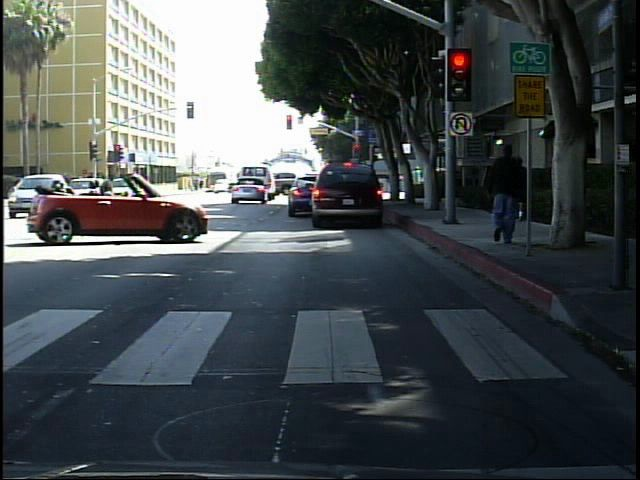person: (479, 133, 530, 250), (507, 148, 532, 231)
